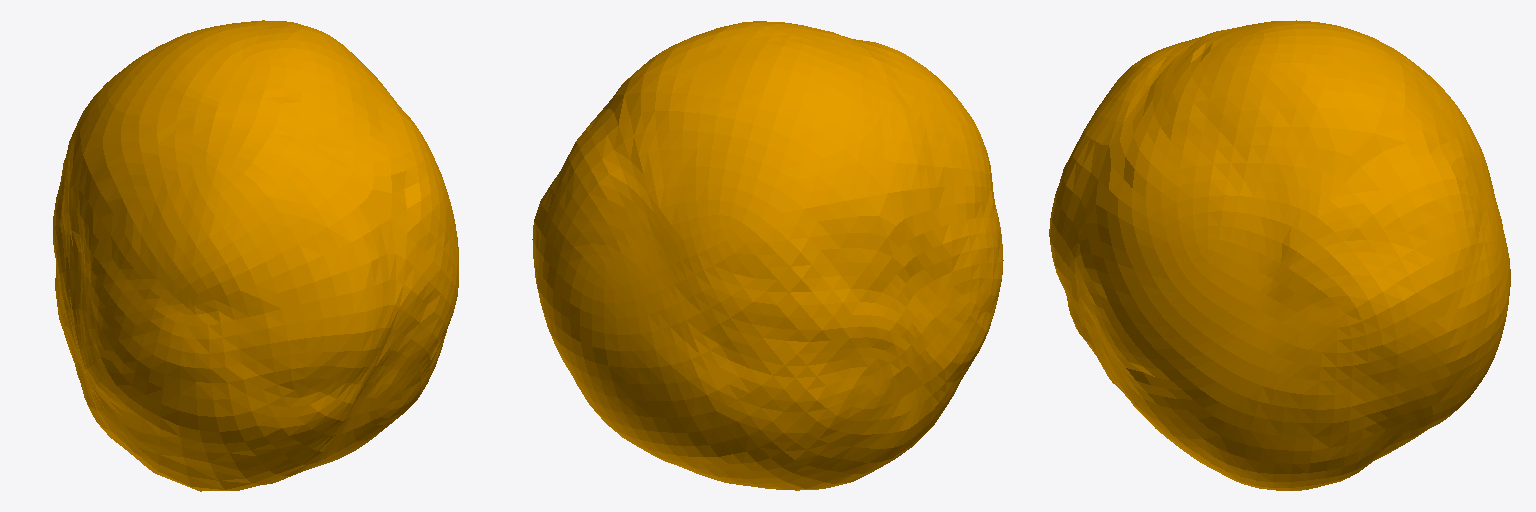
The robot description file, URDF, robot "rock":
<?xml version="1.0" ?>
<robot name="rock">
  <link name="rock">
    <inertial>
      <mass value="0.25"/>
      <origin rpy="0 0 0" xyz="0 0 0"/>
      <inertia ixx="0.00025" ixy="0" ixz="0" iyy="0.00025" iyz="0" izz="0.00025"/>
    </inertial>
    <collision name="rock_collision">
      <origin rpy="0 0 0" xyz="0 0 0"/>
      <geometry>
        <mesh filename="package://rocks/collision/4.stl" scale="1 1 1"/>
      </geometry>
    </collision>
    <visual name="rock_visual">
      <origin rpy="0 0 0" xyz="0 0 0"/>
      <geometry>
        <mesh filename="package://rocks/visual/4.dae" scale="1 1 1"/>
      </geometry>
    </visual>
  </link>
</robot>

--- Facts derived from the render (not from the file) ---
The picture shows the robot from 3 angles, left to right: view 1: azimuth 30°, elevation 25°; view 2: azimuth 150°, elevation 25°; view 3: azimuth 270°, elevation 25°; orthographic projection.
Model rock with 1 links and 0 joints (none), rooted at rock, posed all joints at 0.
Visible links, largest first — view 1: rock; view 2: rock; view 3: rock.
Boxes of the visible links, x1,y1,x2,y2 form: rock: (53,20,458,491); rock: (532,21,1003,490); rock: (1049,20,1510,490).
Bounding box of the posed robot: 0.056 × 0.0615 × 0.0625 m (x, y, z).
1 mesh visuals loaded from 1 distinct referenced files (1 Collada DAE).